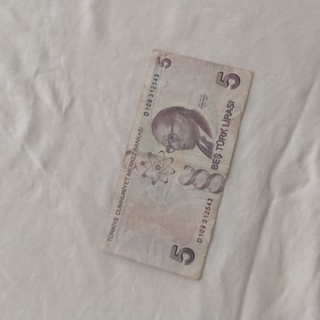5TLBack: (97, 47, 255, 282)
